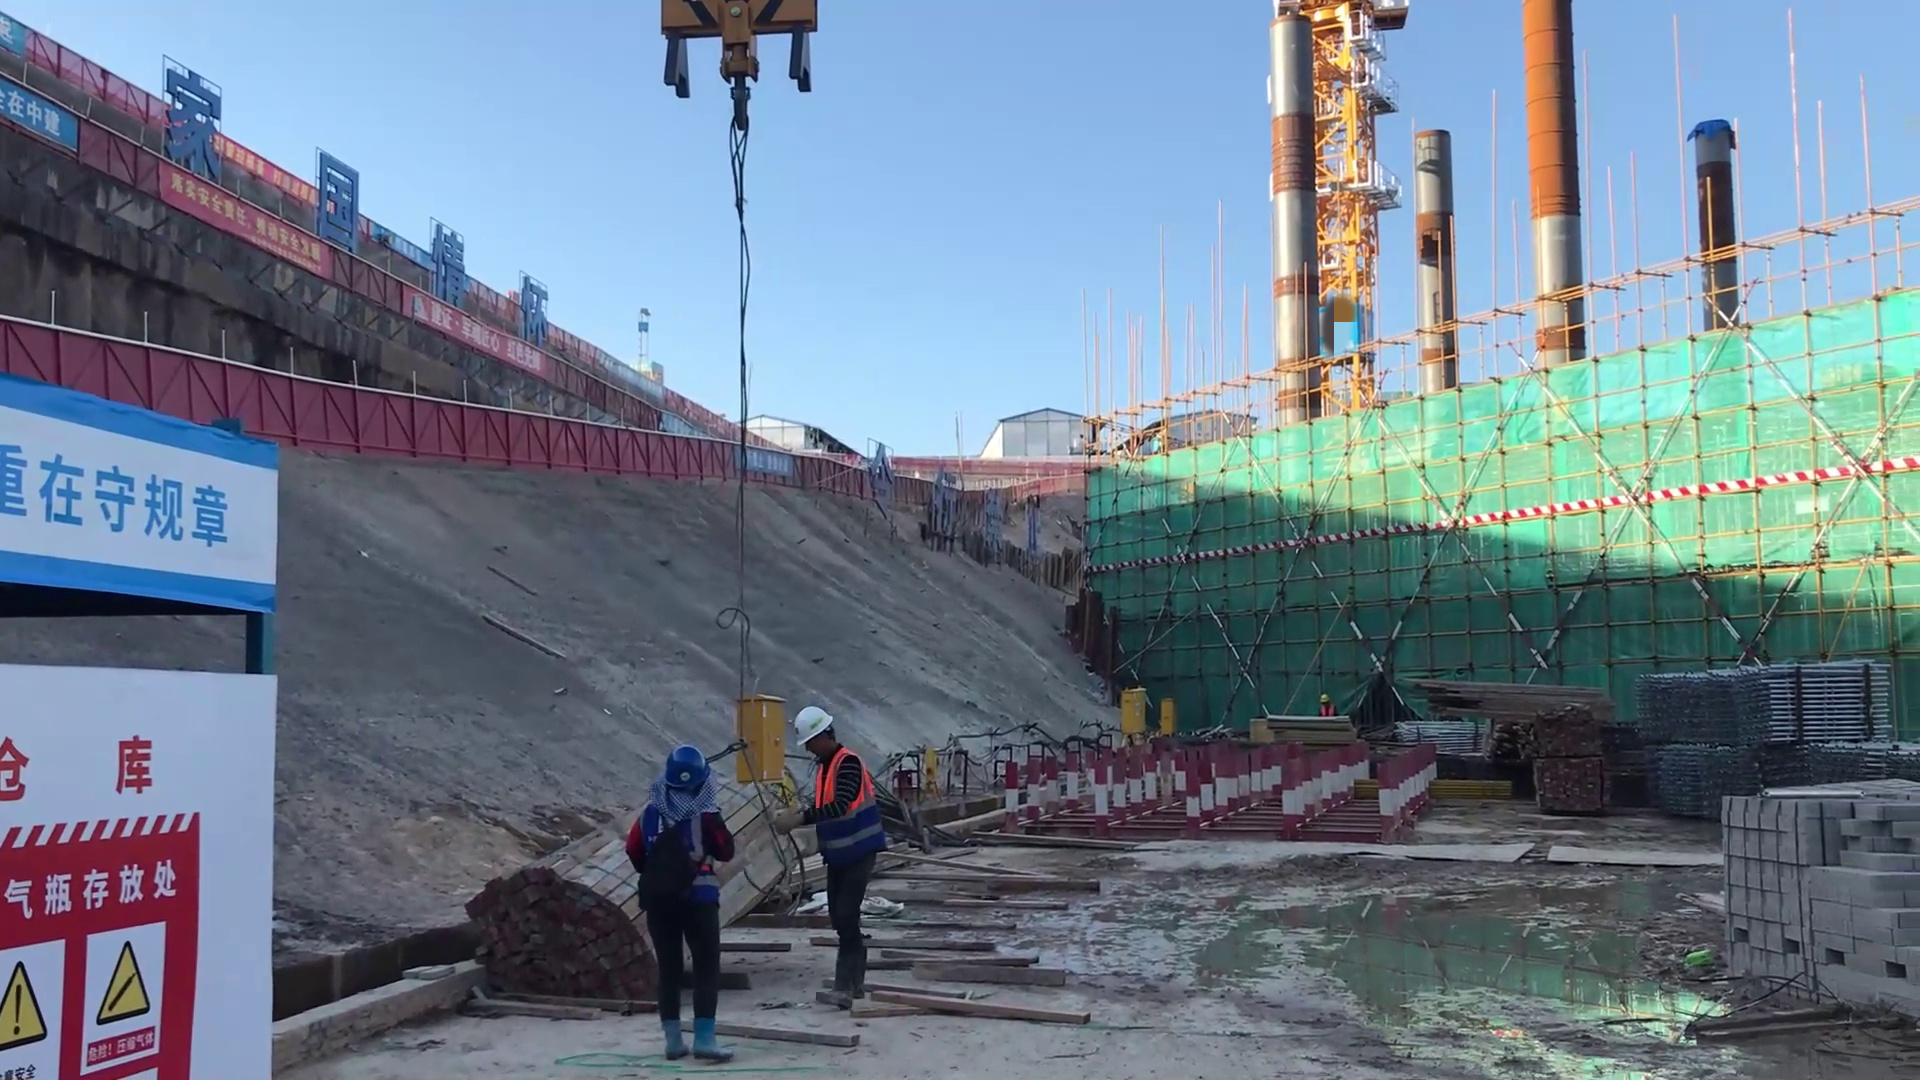brick: (1696, 765, 1920, 1002)
ebox: (736, 682, 789, 800), (1119, 686, 1150, 731), (1162, 693, 1175, 741)
fence: (263, 374, 592, 476), (591, 420, 732, 487)
helmet: (649, 748, 709, 807), (789, 712, 837, 756), (1320, 692, 1332, 704)
hook: (666, 1, 814, 100)
person: (615, 736, 732, 1063), (785, 693, 881, 1012), (1317, 693, 1342, 718)
scaffold: (1634, 662, 1892, 743), (1652, 743, 1735, 816)
slogan: (1, 814, 249, 1074), (1, 424, 248, 593), (136, 172, 326, 289)
vest: (801, 759, 863, 829), (1319, 705, 1337, 717)
wood: (474, 826, 632, 1008), (1393, 664, 1603, 729)
